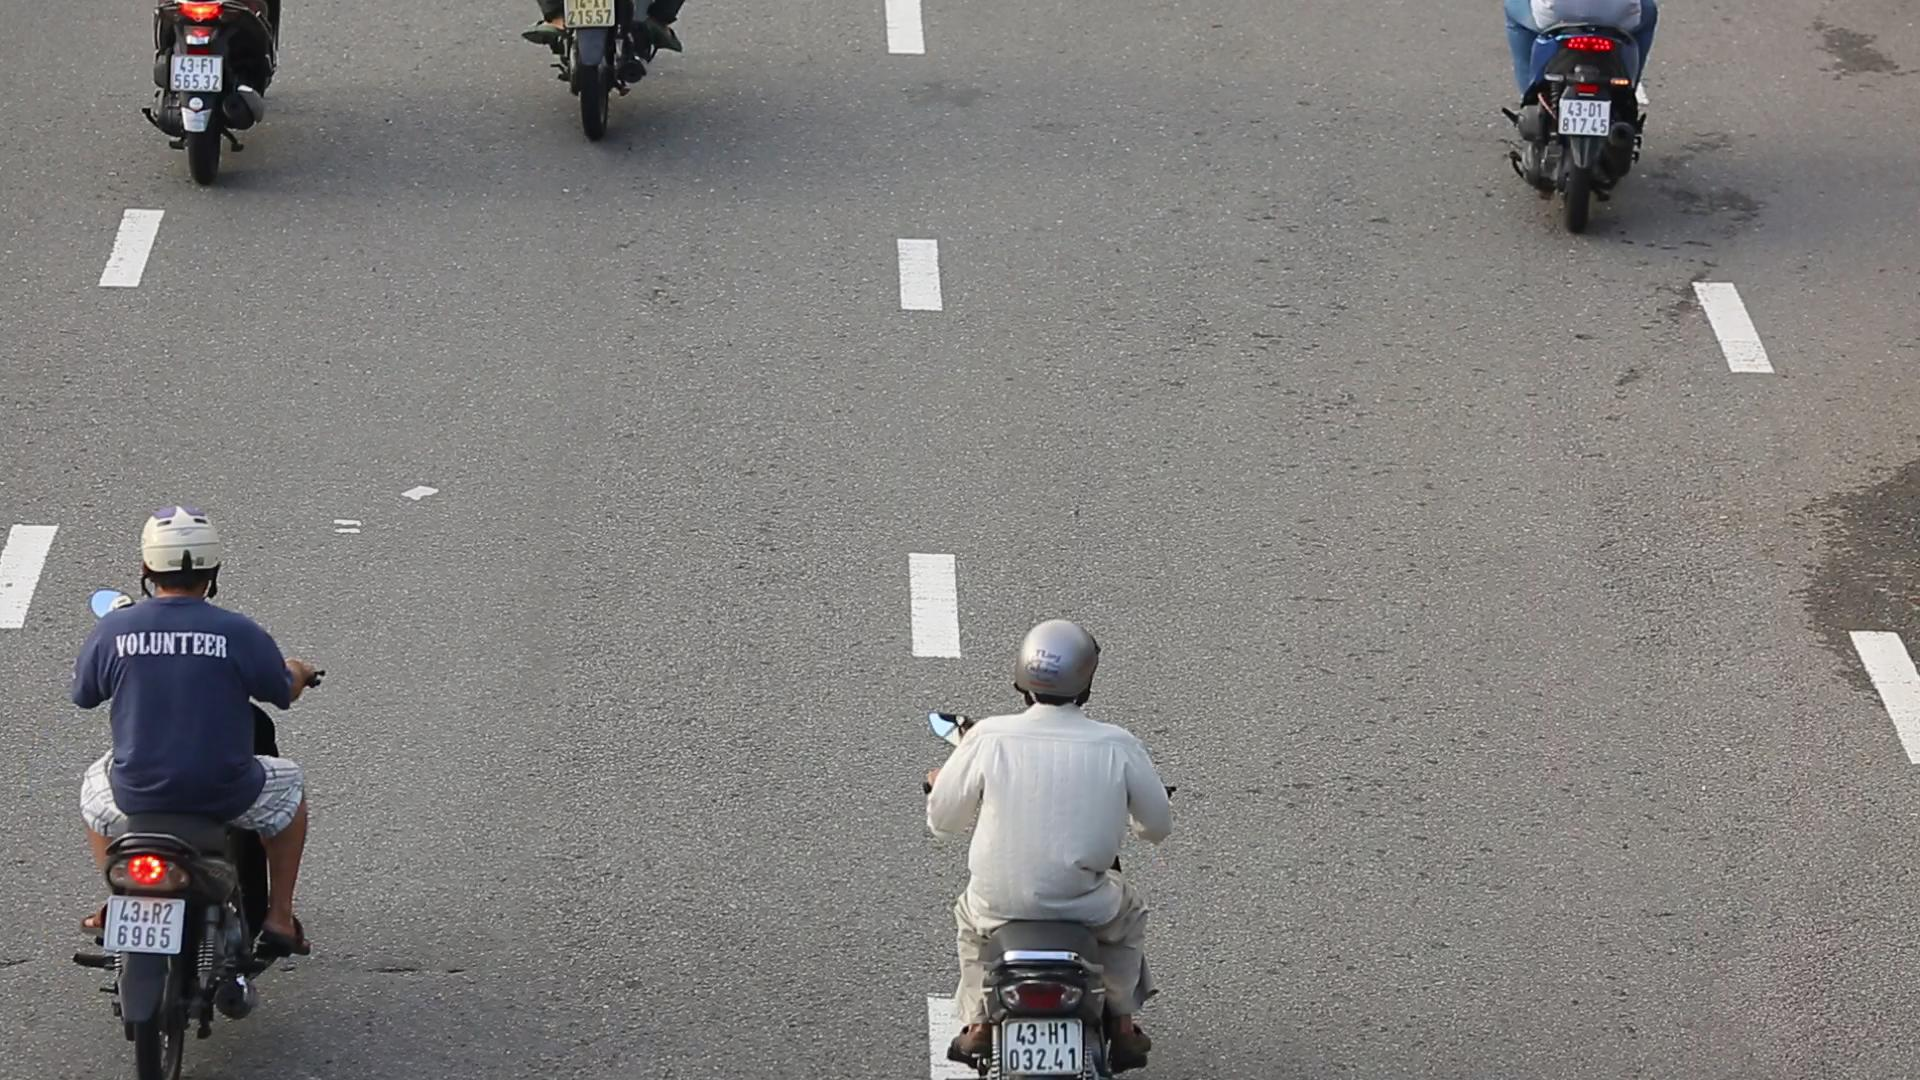motobike: (62, 487, 330, 1080)
